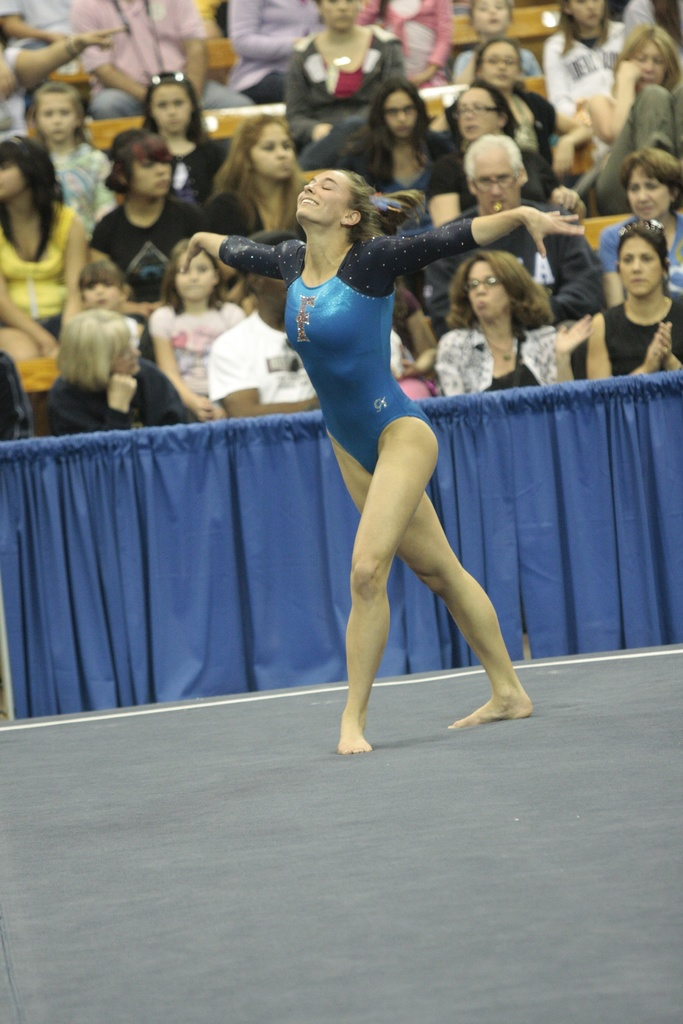face: (255, 121, 294, 178)
